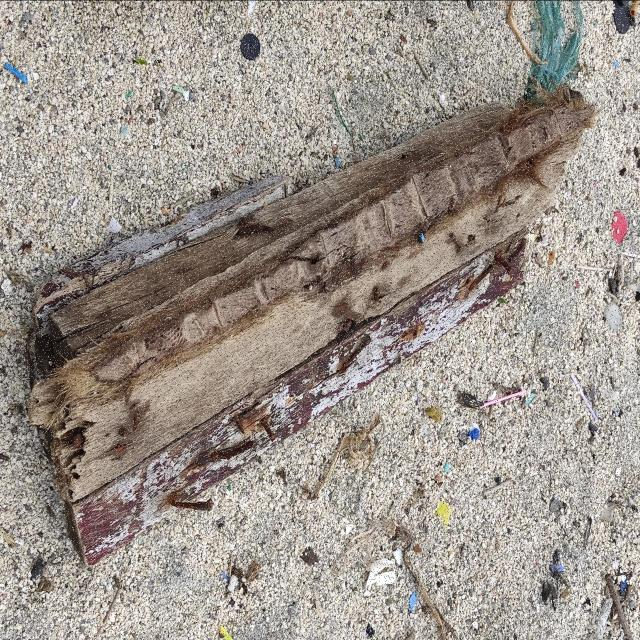wood_waste: (27, 76, 605, 571)
